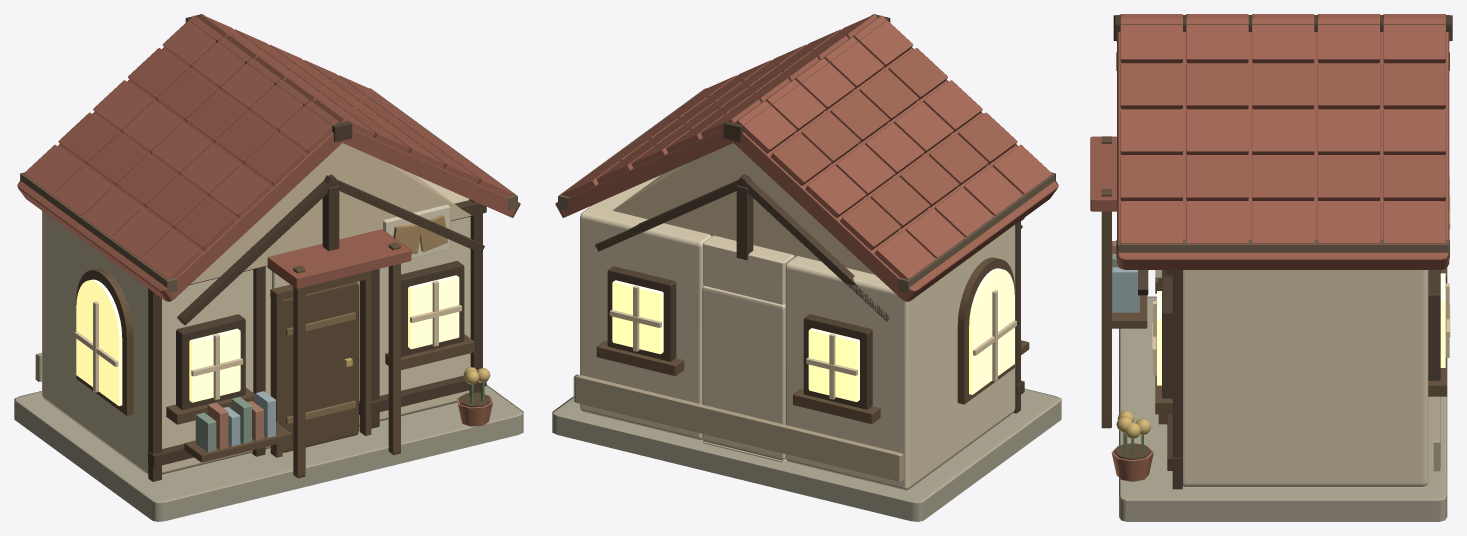
File: library-1.glb
3 renders of one model, left to right at view 1: azimuth 30°, elevation 25°; view 2: azimuth 150°, elevation 25°; view 3: azimuth 270°, elevation 25°, orthographic. The views are drawn at different scales.
Parts seen in each view (by area): view 1: library-1-0, door-hinge; view 2: library-1-0; view 3: library-1-0.
Part boxes in pixels (x1,y1,x2,y2): library-1-0: [14, 14, 523, 521]; door-hinge: [282, 282, 358, 452]; library-1-0: [552, 14, 1061, 521]; library-1-0: [1090, 14, 1452, 521].
Bounding box in the file's own units: 2.8 × 2.58 × 2.1.
